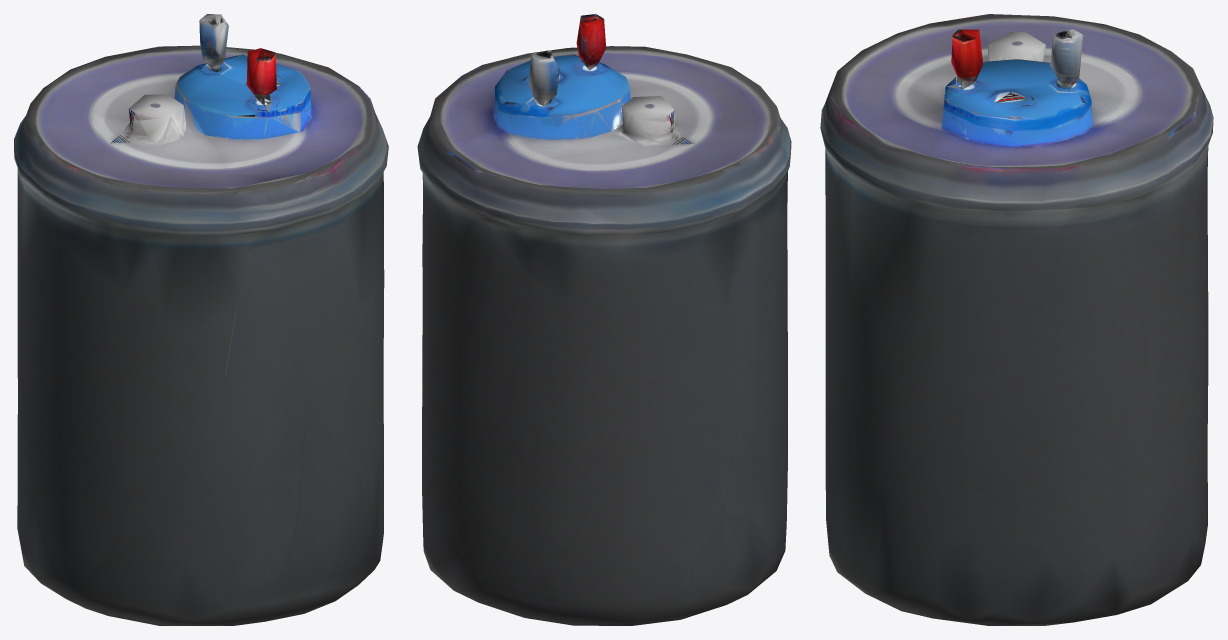
File: BinhDoNhietDung.fbx
3 renders of one model, left to right at view 1: azimuth 30°, elevation 25°; view 2: azimuth 150°, elevation 25°; view 3: azimuth 270°, elevation 25°, orthographic. The views are drawn at different scales.
Visible parts, largest first — view 1: Electrolytic_Cell_Con_1013010257_texture; view 2: Electrolytic_Cell_Con_1013010257_texture; view 3: Electrolytic_Cell_Con_1013010257_texture.
Part boxes in pixels (x1,y1,x2,y2): Electrolytic_Cell_Con_1013010257_texture: (14, 14, 388, 625); Electrolytic_Cell_Con_1013010257_texture: (417, 14, 791, 625); Electrolytic_Cell_Con_1013010257_texture: (820, 14, 1213, 625).
Bounding box in the file's own units: 128 × 191 × 127.
